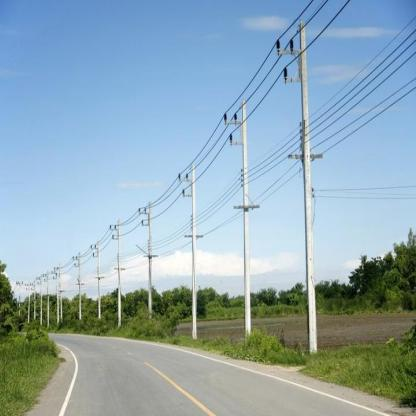Electrical Pole: (273, 18, 330, 357), (221, 95, 266, 347), (176, 160, 208, 341), (138, 198, 162, 334)
